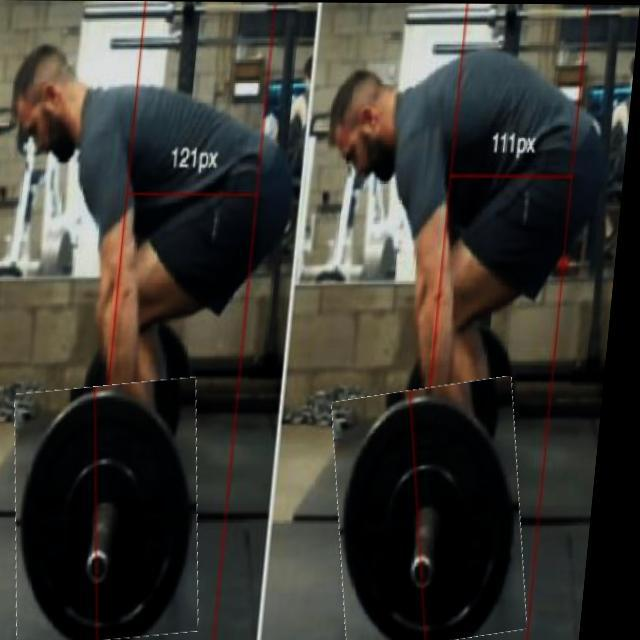barbell: (332, 381, 549, 640), (12, 380, 223, 640)
